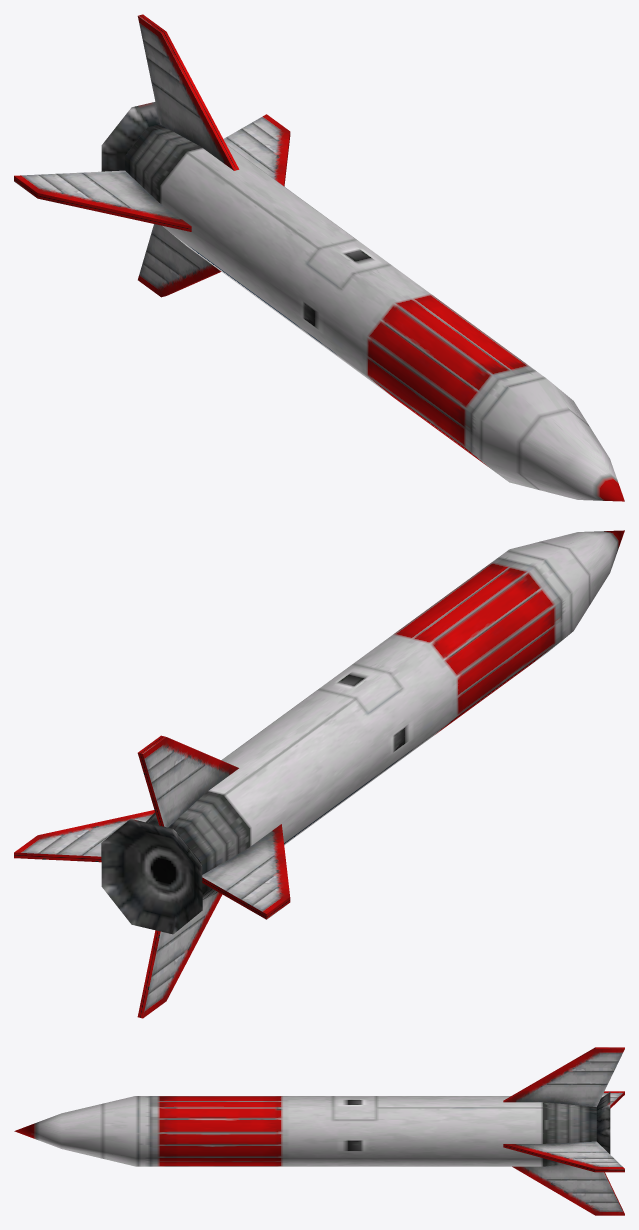
The model's file is wpn_missile_space_s02_l1.fbx.
The picture shows the model from 3 angles, top to bottom: view 1: azimuth 30°, elevation 25°; view 2: azimuth 150°, elevation 25°; view 3: azimuth 270°, elevation 25°; orthographic projection. The views are drawn at different scales.
Visible parts, largest first — view 1: mesh_node; view 2: mesh_node; view 3: mesh_node.
Boxes of the visible parts, left/top/right/bottom form: mesh_node: left=14, top=14, right=624, bottom=501; mesh_node: left=14, top=530, right=624, bottom=1018; mesh_node: left=14, top=1047, right=624, bottom=1215.
Bounding box in the file's own units: 0.6009 × 0.6009 × 2.
